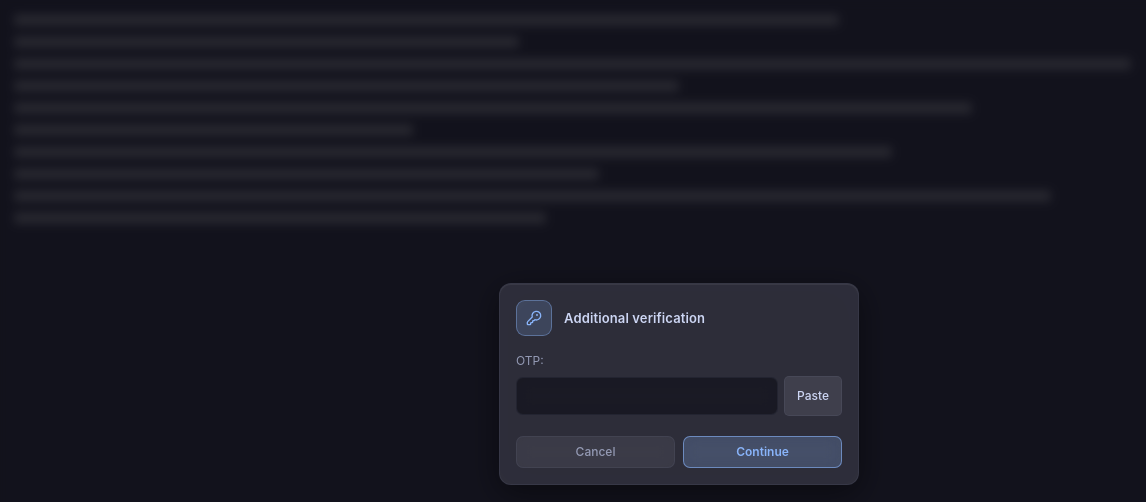
Test: Terminal 사용자 액션 › 인증 프롬프트 › 취소하면 소켓을 닫고 자동 재연결하지 않는다
Click the button "Cancel" at (596, 452), box [516,436,675,468]
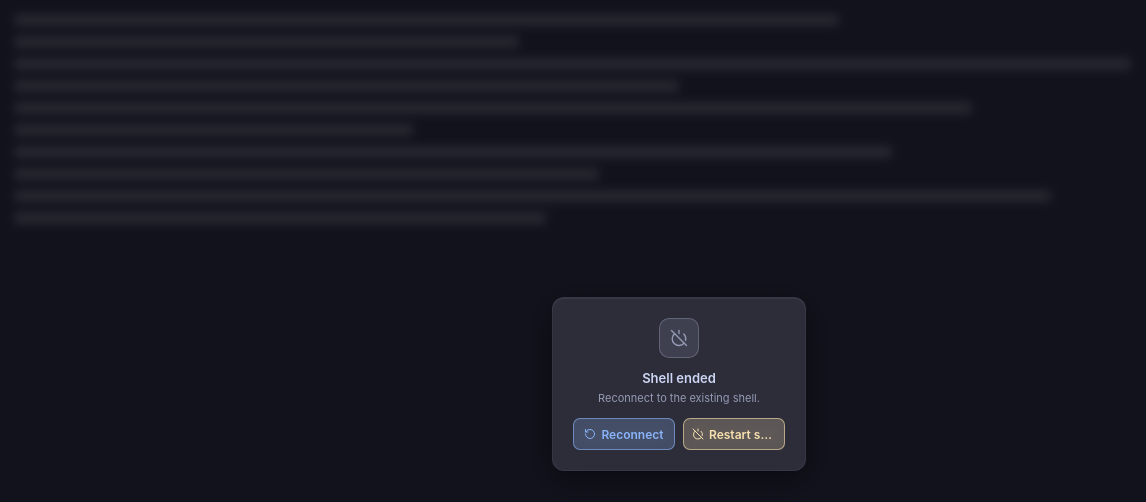
Now the text "Shell ended" is shown, box [642,370,716,386]
